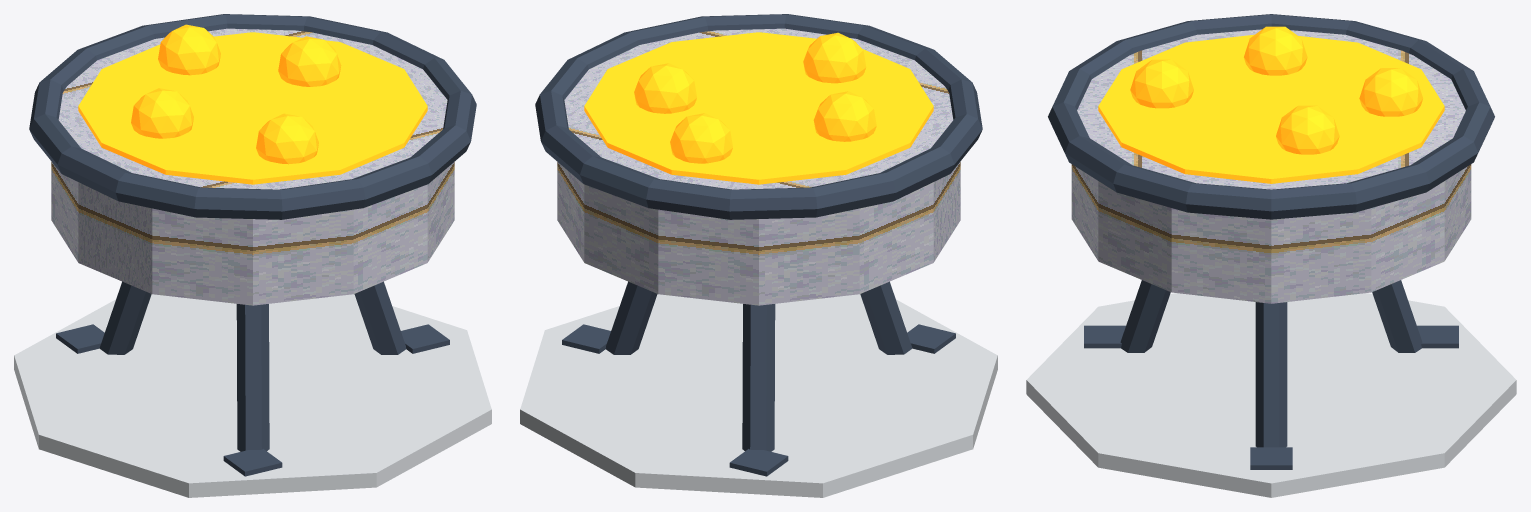
Rendered from brasero.glb.
3 views of the same model, side by side, from view 1: azimuth 30°, elevation 25°; view 2: azimuth 150°, elevation 25°; view 3: azimuth 270°, elevation 25° (orthographic).
Parts seen in each view (by area): view 1: Cylinder.005, Cylinder, Cylinder.001, Torus, Cylinder.004, Icosphere.002, Icosphere, Icosphere.001, Icosphere.003, Cylinder.003, Cylinder.002, Cube.002 (+2 smaller); view 2: Cylinder.005, Cylinder, Cylinder.001, Torus, Cylinder.003, Icosphere, Icosphere.001, Icosphere.003, Icosphere.002, Cylinder.004, Cylinder.002, Cube.001 (+2 smaller); view 3: Cylinder.005, Cylinder, Cylinder.001, Torus, Cylinder.002, Icosphere.002, Icosphere, Icosphere.003, Icosphere.001, Cylinder.003, Cylinder.004, Cube (+2 smaller).
Part boxes in pixels (left/top/right/bottom): Cylinder.005: left=14, top=294, right=491, bottom=497; Cylinder: left=51, top=28, right=454, bottom=305; Cylinder.001: left=78, top=32, right=427, bottom=184; Torus: left=29, top=14, right=476, bottom=219; Cylinder.004: left=236, top=304, right=269, bottom=451; Icosphere.002: left=131, top=88, right=193, bottom=138; Icosphere: left=278, top=36, right=341, bottom=86; Icosphere.001: left=158, top=24, right=220, bottom=75; Icosphere.003: left=256, top=113, right=318, bottom=164; Cylinder.003: left=99, top=281, right=151, bottom=354; Cylinder.002: left=354, top=281, right=406, bottom=354; Cube.002: left=223, top=449, right=282, bottom=476; Cylinder.005: left=520, top=294, right=997, bottom=497; Cylinder: left=557, top=28, right=960, bottom=305; Cylinder.001: left=584, top=32, right=933, bottom=184; Torus: left=535, top=14, right=982, bottom=219; Cylinder.003: left=742, top=304, right=775, bottom=451; Icosphere: left=634, top=63, right=696, bottom=113; Icosphere.001: left=670, top=113, right=732, bottom=163; Icosphere.003: left=803, top=32, right=866, bottom=83; Icosphere.002: left=813, top=91, right=876, bottom=141; Cylinder.004: left=860, top=281, right=912, bottom=354; Cylinder.002: left=605, top=281, right=657, bottom=354; Cube.001: left=729, top=449, right=788, bottom=476; Cylinder.005: left=1026, top=293, right=1516, bottom=497; Cylinder: left=1071, top=29, right=1471, bottom=303; Cylinder.001: left=1098, top=34, right=1444, bottom=183; Torus: left=1048, top=14, right=1494, bottom=219; Cylinder.002: left=1255, top=302, right=1287, bottom=447; Icosphere.002: left=1244, top=26, right=1307, bottom=75; Icosphere: left=1276, top=105, right=1339, bottom=154; Icosphere.003: left=1130, top=59, right=1193, bottom=108; Icosphere.001: left=1359, top=68, right=1423, bottom=116; Cylinder.003: left=1372, top=280, right=1422, bottom=352; Cylinder.004: left=1120, top=280, right=1170, bottom=352; Cube: left=1250, top=447, right=1292, bottom=469.
Bounding box in the file's own units: 1.84 × 1.37 × 1.84.
4 materials, 1 textured.
